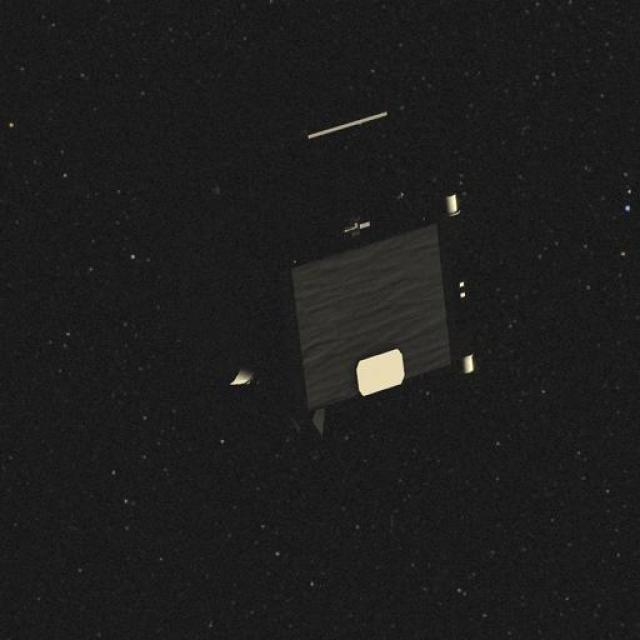proba_3_csc: (199, 99, 507, 442)
